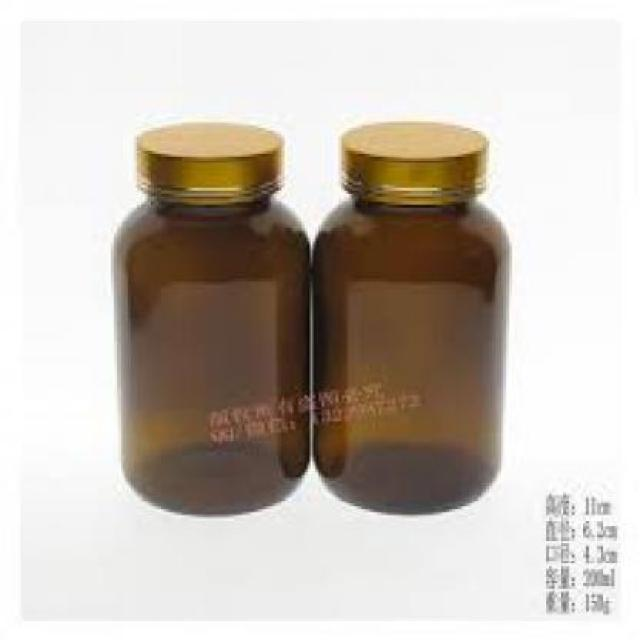kaca: (110, 202, 308, 516), (307, 197, 498, 518)
